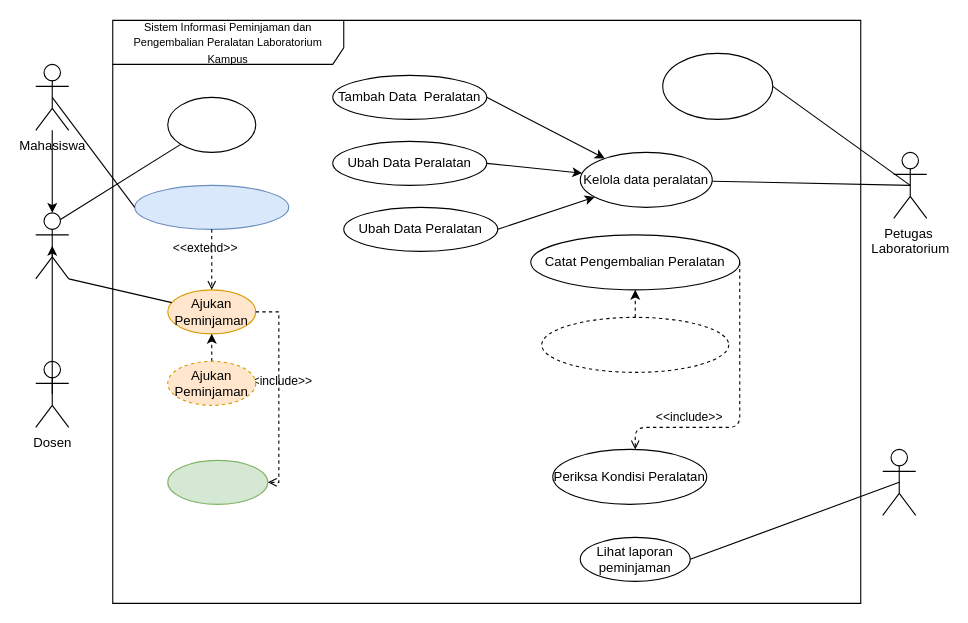
The diagram is 968 pixels wide and 623 high, and some of its shapes have lost their labels. The shapes that lost their labels are listed below. From the top down, each one's centre as x and y in pixels, then its label:
the point at 717,85: Proses Keputusan Peminjaman
the point at 211,124: Lihat ketersediaan peralatan
the point at 211,206: Cetak bukti pengajuan
the point at 52,245: Peminjam
the point at 635,344: Cata Pengembalian Peralatan
the point at 217,481: Periksa Ketersediaan
the point at 899,481: Kepala Laboratorium
